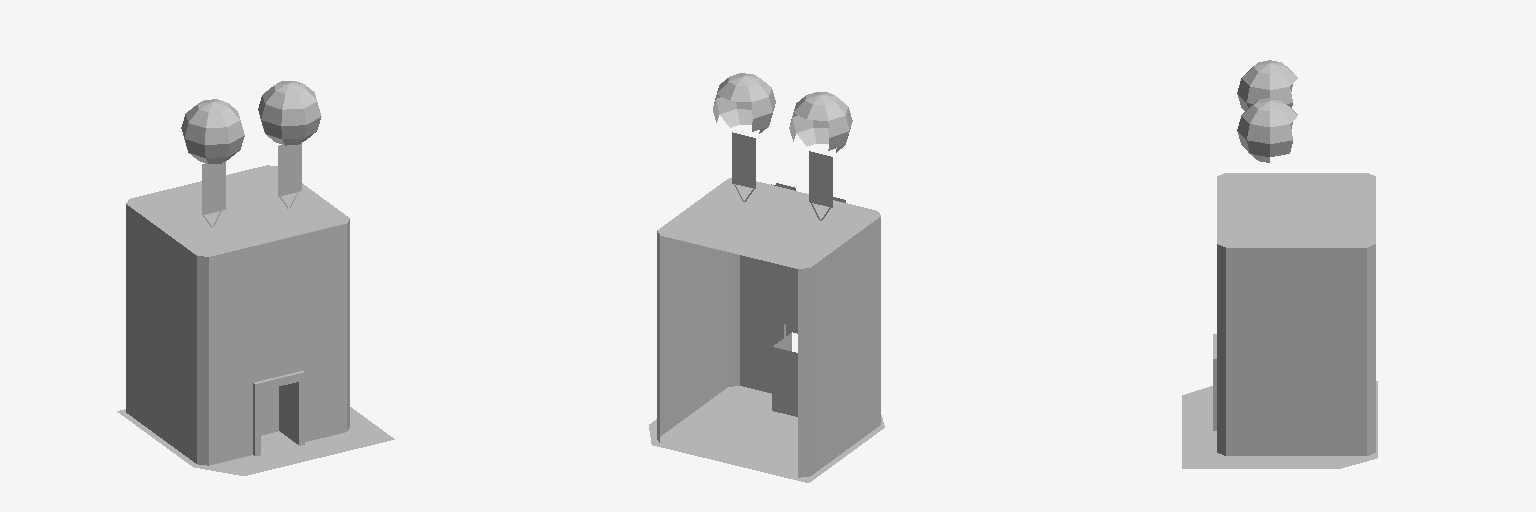
File: Veilstone Department Store.obj
3 views of the same model, side by side, from view 1: azimuth 30°, elevation 25°; view 2: azimuth 150°, elevation 25°; view 3: azimuth 270°, elevation 25° (orthographic).
Parts seen in each view (by area): view 1: polygon3, polygon2, polygon5, polygon1; view 2: polygon3, polygon2, polygon1, polygon5, polygon0; view 3: polygon3, polygon2, polygon5, polygon1.
Part boxes in pixels (x1,y1,x2,y2): polygon3: (126, 165, 349, 465); polygon2: (140, 171, 334, 450); polygon5: (181, 81, 321, 214); polygon1: (117, 231, 394, 475); polygon3: (657, 178, 880, 477); polygon2: (671, 183, 866, 416); polygon1: (649, 184, 884, 482); polygon5: (713, 73, 852, 207); polygon0: (740, 255, 797, 343); polygon3: (1213, 173, 1375, 455); polygon2: (1228, 177, 1364, 242); polygon5: (1237, 60, 1297, 162); polygon1: (1182, 381, 1377, 468).
Size of the model in its own units: 94 by 169 by 89.